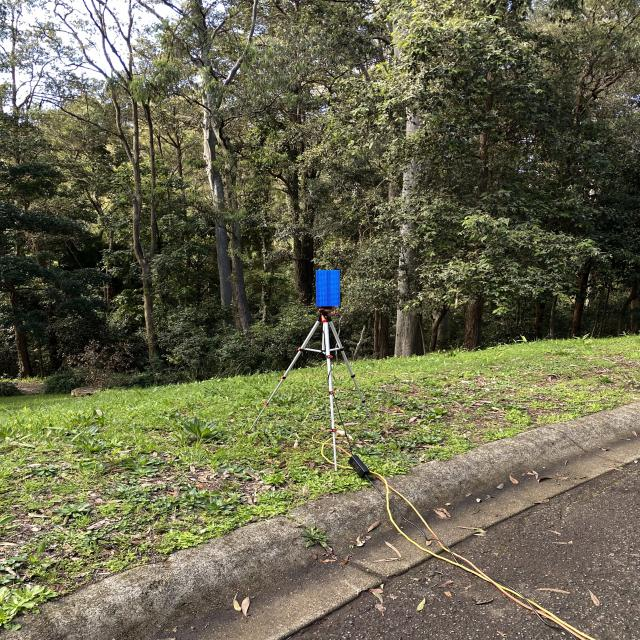matrix: (313, 268, 344, 309)
